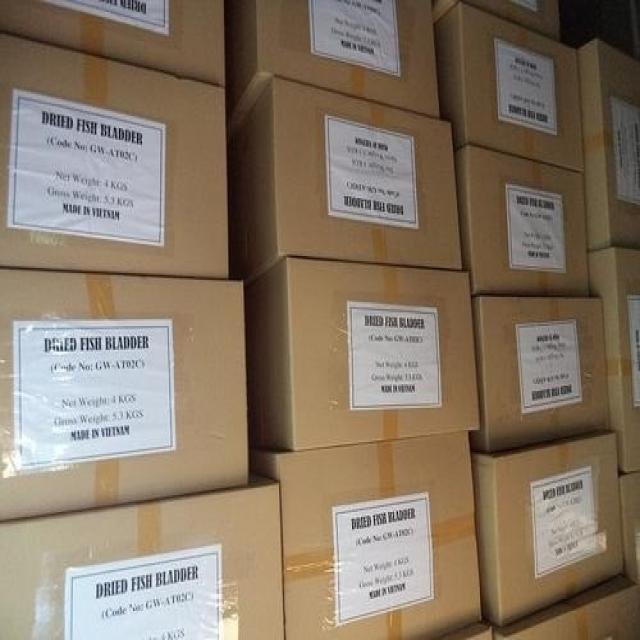box: (0, 268, 248, 522), (0, 32, 230, 278), (250, 432, 484, 640), (228, 75, 462, 282), (0, 473, 284, 640), (247, 256, 481, 451), (471, 428, 625, 625), (225, 0, 440, 133), (435, 2, 586, 171), (471, 295, 611, 452), (454, 143, 590, 297), (579, 38, 640, 251), (589, 244, 640, 473), (494, 573, 640, 640), (465, 0, 559, 38), (618, 471, 640, 587), (434, 621, 493, 640), (433, 0, 457, 17)
